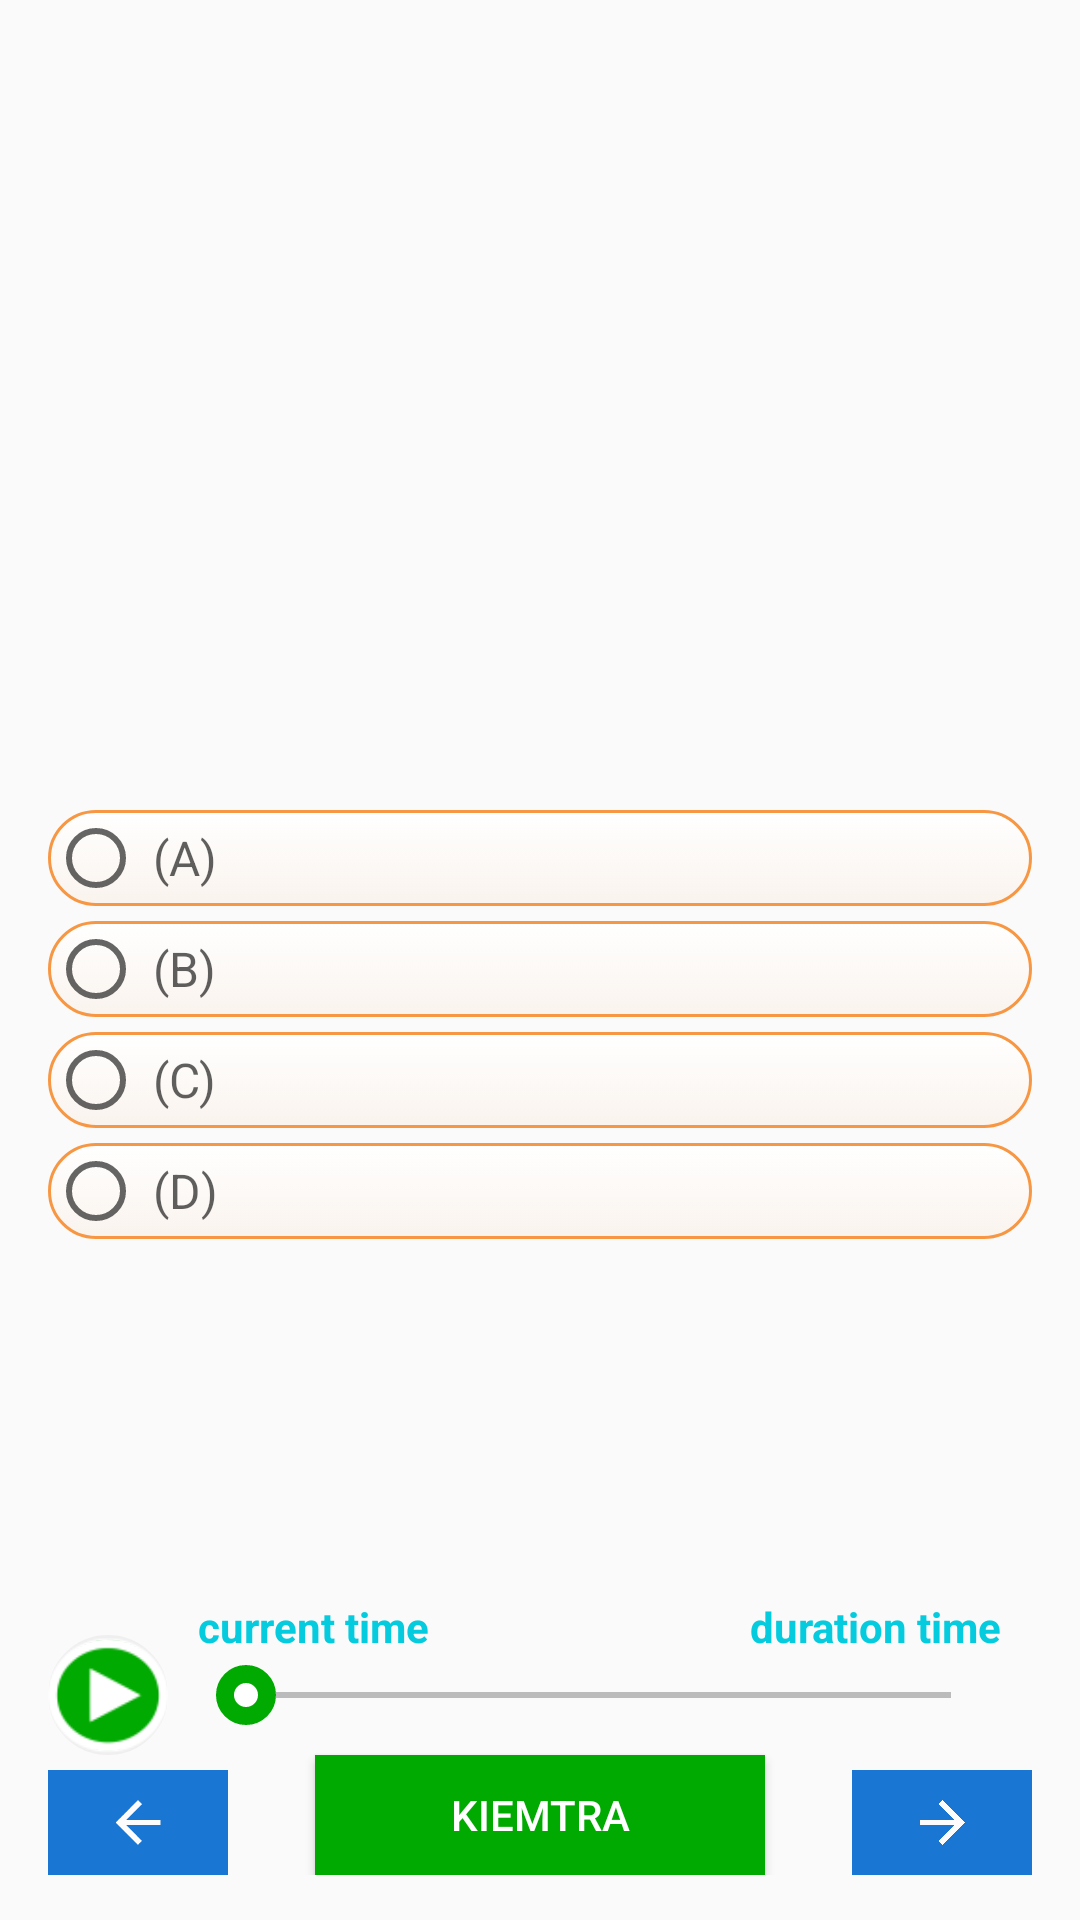

Icons on this 1080w x 1920h Android screen, each with the point to tap as point (x, y):
back: point (138, 1822)
next: point (942, 1822)
play: point (108, 1695)
